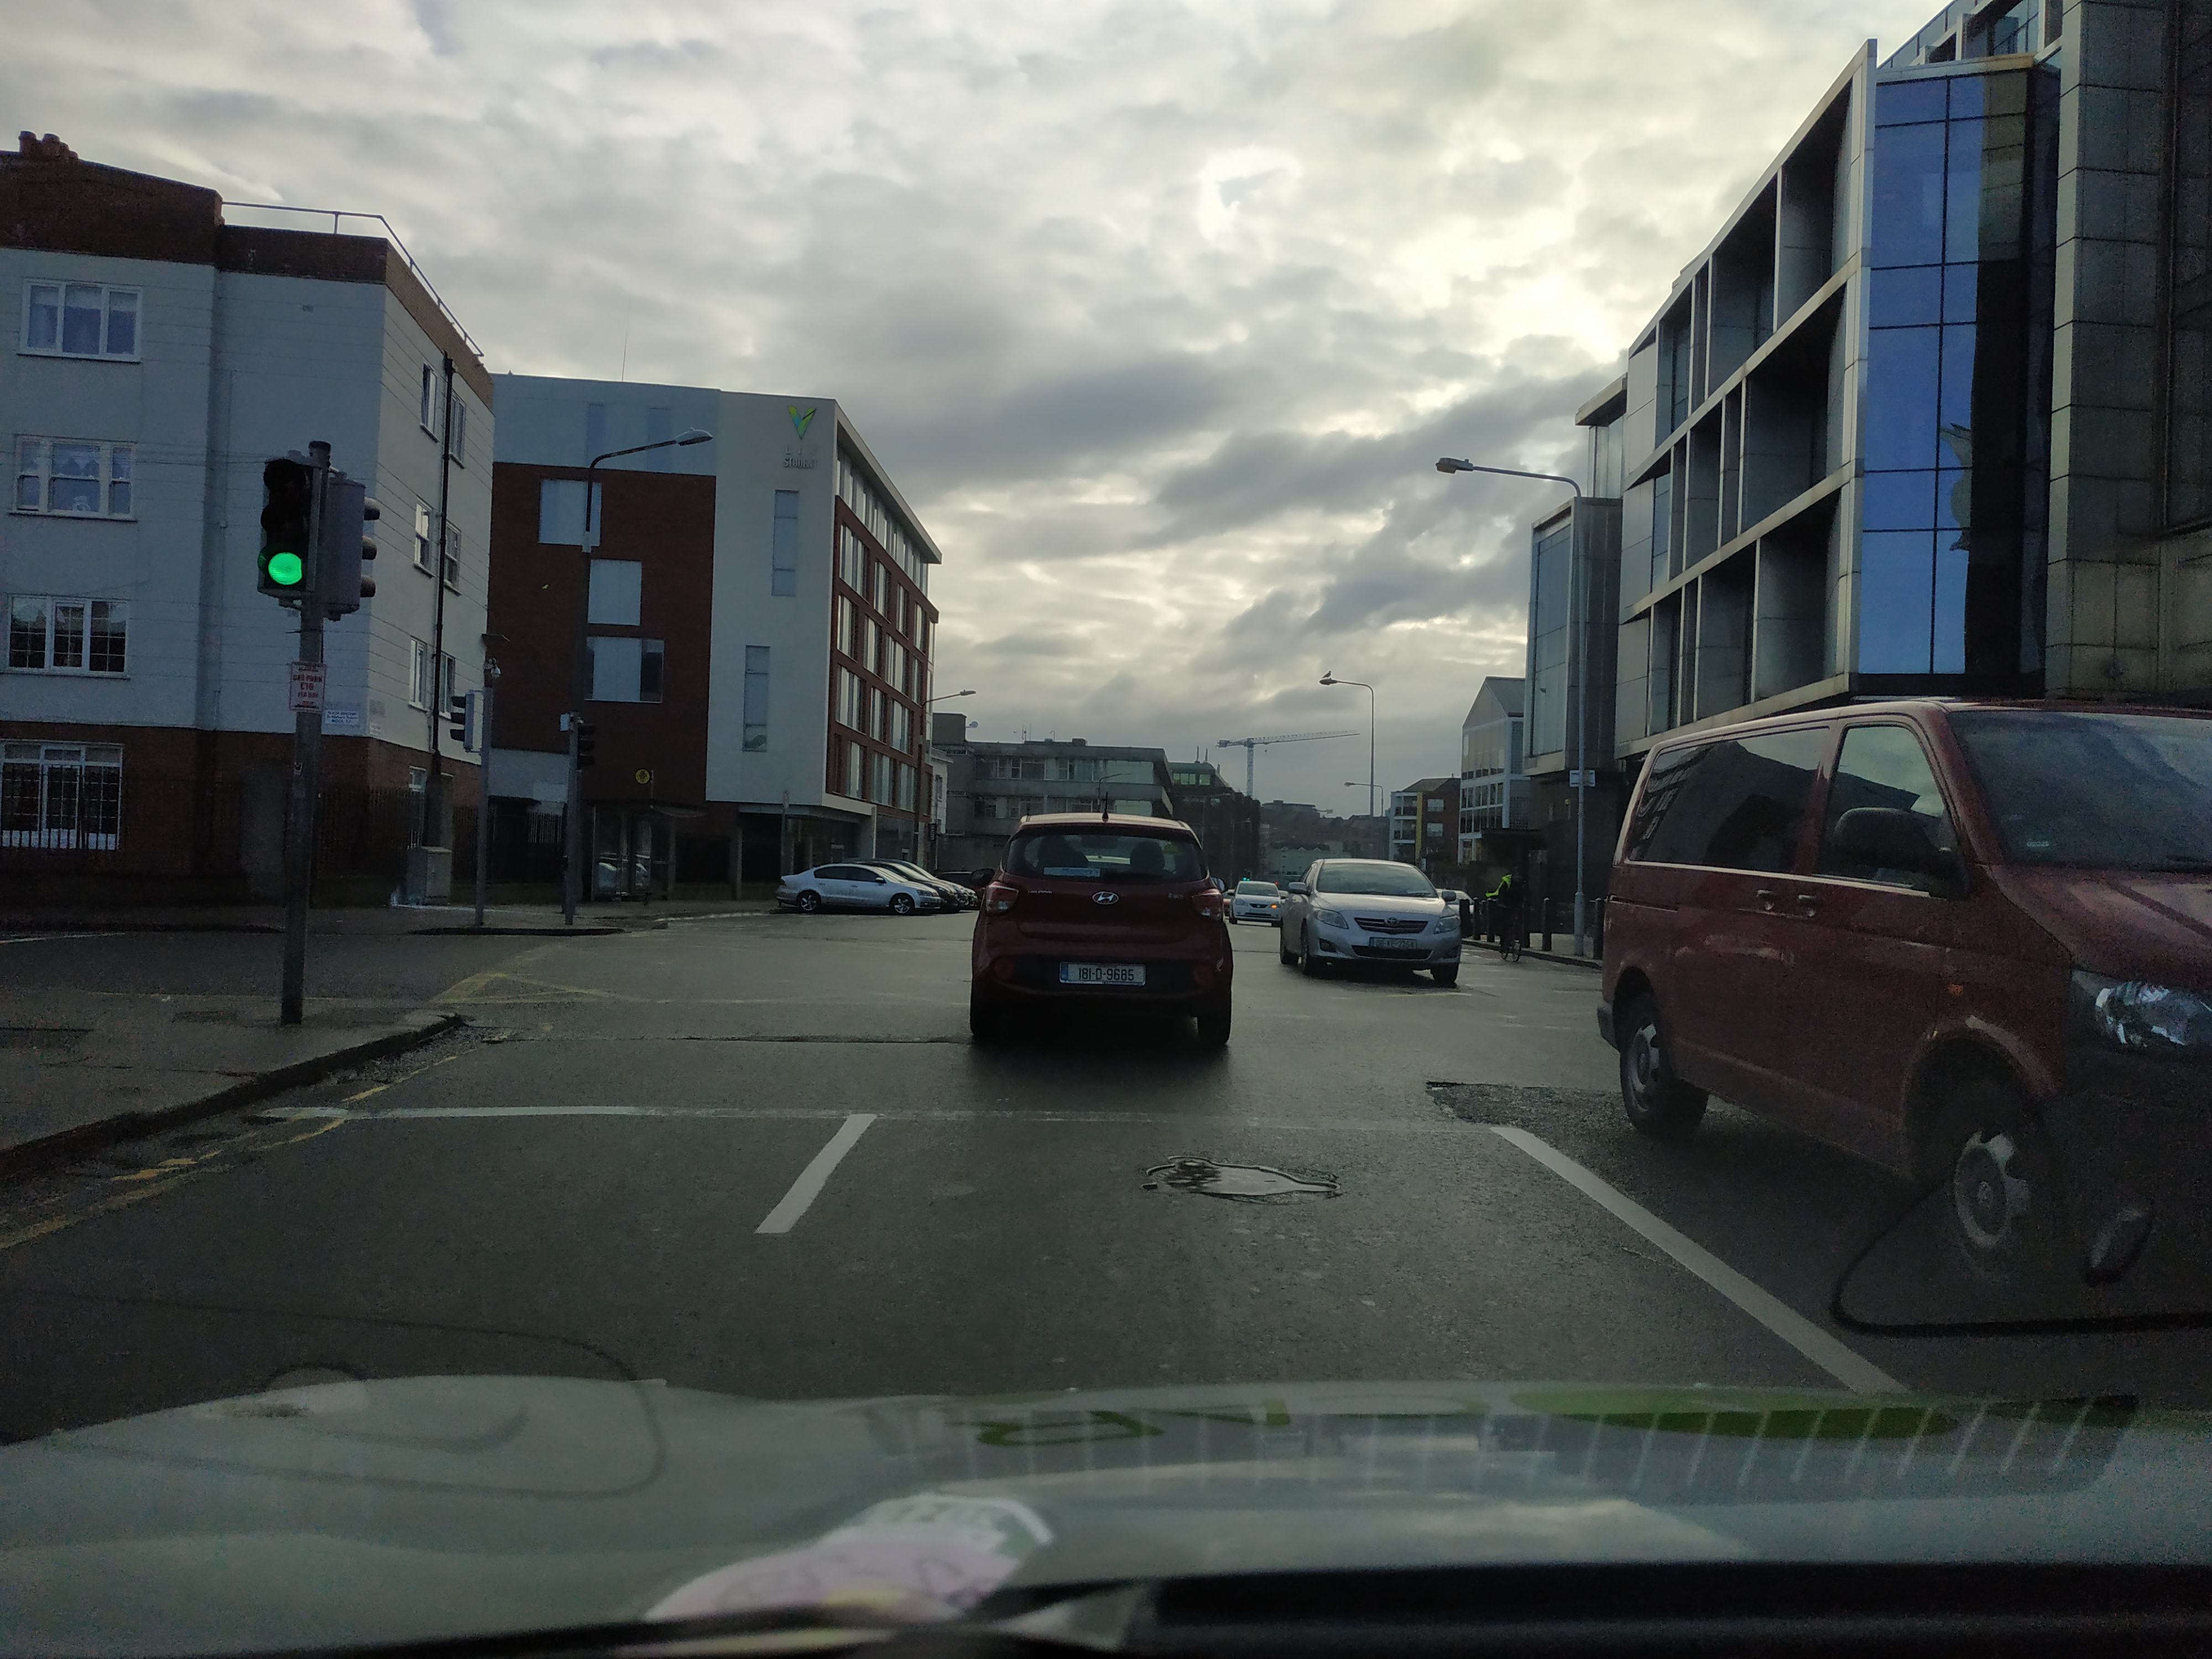Bicycle: (1493, 902, 1529, 964)
Car: (971, 812, 1234, 1045), (1280, 858, 1460, 985), (778, 863, 941, 914), (1228, 880, 1283, 927)
Person: (1487, 868, 1530, 942)
Van: (1594, 699, 2212, 1303)
